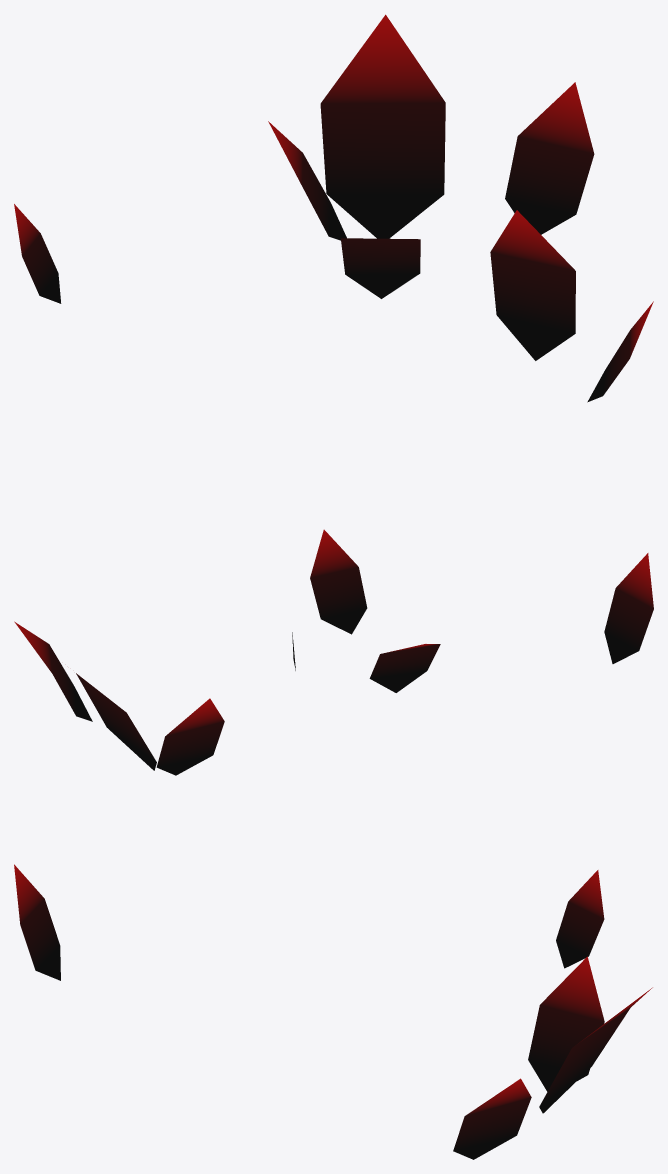
The model's file is Grass4.fbx.
3 views of the same model, one above another, from view 1: azimuth 30°, elevation 25°; view 2: azimuth 150°, elevation 25°; view 3: azimuth 270°, elevation 25° (orthographic). The views are drawn at different scales.
Parts seen in each view (by area): view 1: Grass4; view 2: Grass4; view 3: Grass4.
Boxes of the visible parts, x1=… form: Grass4: x1=14, y1=14, x2=653, y2=402; Grass4: x1=14, y1=529, x2=653, y2=775; Grass4: x1=14, y1=864, x2=652, y2=1159.
Bounding box in the file's own units: 52.28 × 16.07 × 59.88.
